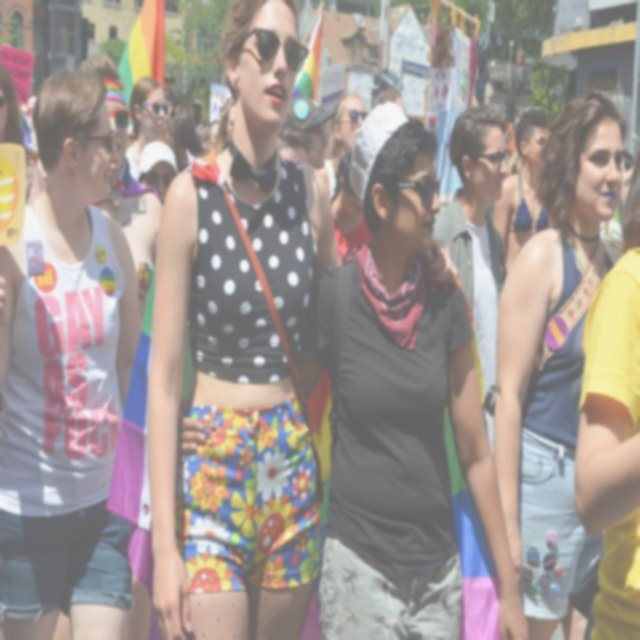pessoa: (144, 0, 462, 639), (292, 98, 530, 639), (0, 62, 147, 639), (492, 89, 630, 636), (432, 102, 511, 639), (569, 143, 639, 639), (77, 53, 164, 329), (278, 94, 373, 262), (127, 72, 236, 206), (492, 106, 558, 277), (0, 60, 48, 212), (590, 140, 640, 266)
